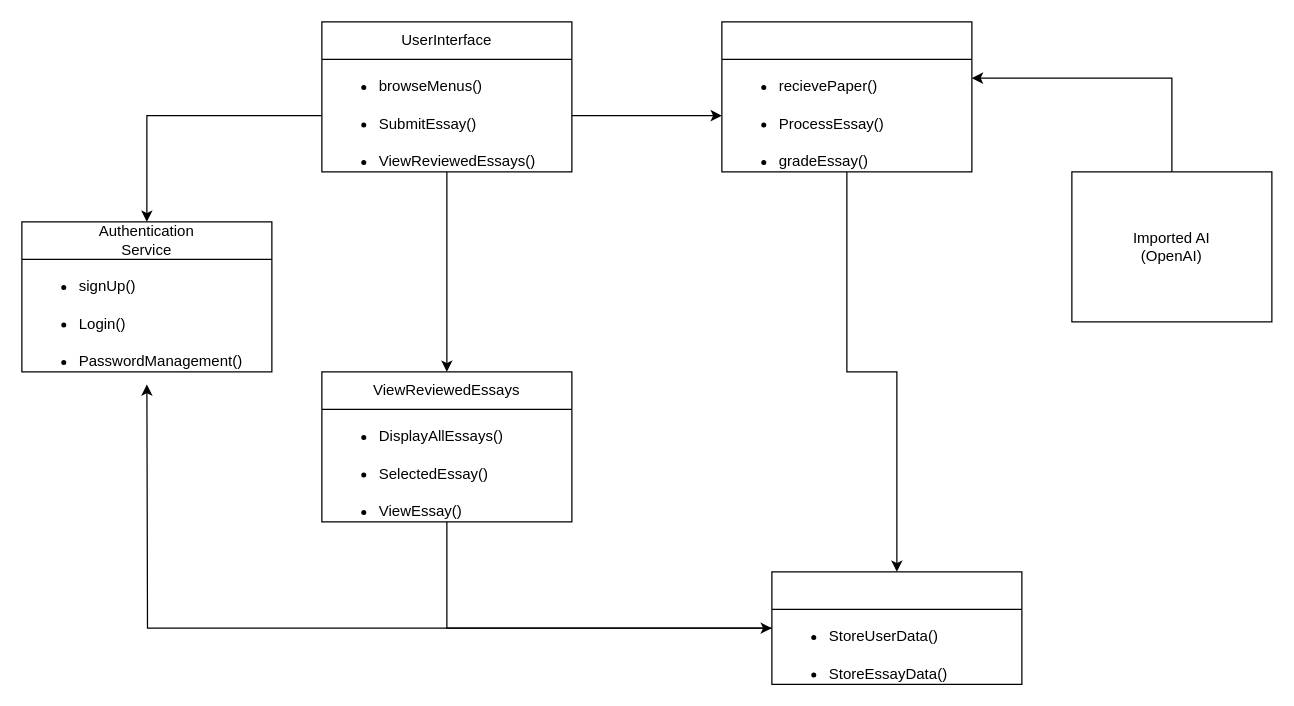
This 1294x706 diagram has some shape labels left out. Here are the shapes that lost their labels. From the top down, the box of each, then its label:
(721, 21, 972, 172): SubmitEssay
(771, 571, 1022, 684): Database
